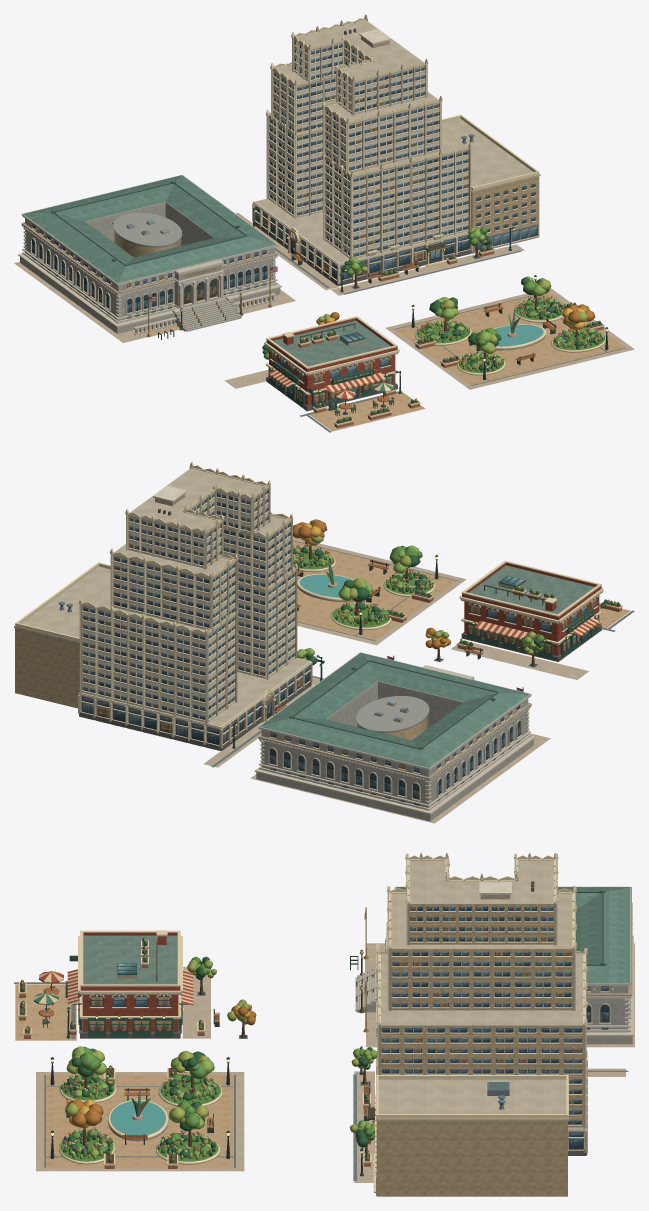
File: olive-and-13th.glb
3 views of the same model, one above another, from view 1: azimuth 30°, elevation 25°; view 2: azimuth 150°, elevation 25°; view 3: azimuth 270°, elevation 25° (orthographic). The views are drawn at different scales.
Parts seen in each view (by area): view 1: Park Pacific · Ivory terra cotta, Park Pacific · Carved limestone, St. Louis Public Library - Central Library · Library roof ti, Park Pacific · Shadowed terra cotta, St. Louis Public Library - Central Library · Library ashlar, St. Louis Public Library - Central Library · Library granite, Park Pacific · Park roof, Park Pacific · Olive glass sky, Thirteenth Street Plaza · Terrazzo, Park Pacific · Glass gasket, Park Pacific · Olive glass dark, Park Pacific · Blond masonry (+22 smaller); view 2: Park Pacific · Ivory terra cotta, Park Pacific · Carved limestone, St. Louis Public Library - Central Library · Library roof ti, Park Pacific · Shadowed terra cotta, St. Louis Public Library - Central Library · Library granite, Park Pacific · Park roof, St. Louis Public Library - Central Library · Library ashlar, Park Pacific · Olive glass sky, Park Pacific · Blond masonry, Thirteenth Street Plaza · Terrazzo, Park Pacific · Glass gasket, Park Pacific · Olive glass blue (+20 smaller); view 3: Park Pacific · Blond masonry, Park Pacific · Park roof, Park Pacific · Carved limestone, Thirteenth Street Plaza · Terrazzo, Park Pacific · Shadowed terra cotta, St. Louis Public Library - Central Library · Library roof ti, Park Pacific · Olive glass sky, Olive & Rye · Roof tiles, Thirteenth Street Plaza · Leaf green, Park Pacific · Glass gasket, Olive & Rye · St. Louis red brick, Thirteenth Street Plaza · Olive sidewalk (+26 smaller).
Boxes of the visible parts, x1=… form: Park Pacific · Ivory terra cotta: x1=252, y1=27, x2=471, y2=283; Park Pacific · Carved limestone: x1=252, y1=14, x2=539, y2=283; St. Louis Public Library - Central Library · Library roof ti: x1=21, y1=175, x2=278, y2=284; Park Pacific · Shadowed terra cotta: x1=254, y1=19, x2=538, y2=283; St. Louis Public Library - Central Library · Library ashlar: x1=18, y1=174, x2=281, y2=335; St. Louis Public Library - Central Library · Library granite: x1=20, y1=201, x2=280, y2=333; Park Pacific · Park roof: x1=256, y1=21, x2=540, y2=262; Park Pacific · Olive glass sky: x1=255, y1=41, x2=537, y2=280; Thirteenth Street Plaza · Terrazzo: x1=395, y1=292, x2=625, y2=385; Park Pacific · Glass gasket: x1=255, y1=41, x2=537, y2=279; Park Pacific · Olive glass dark: x1=270, y1=52, x2=535, y2=279; Park Pacific · Blond masonry: x1=424, y1=65, x2=539, y2=253; Park Pacific · Ivory terra cotta: x1=78, y1=485, x2=311, y2=748; Park Pacific · Carved limestone: x1=15, y1=461, x2=312, y2=748; St. Louis Public Library - Central Library · Library roof ti: x1=258, y1=653, x2=531, y2=768; Park Pacific · Shadowed terra cotta: x1=79, y1=466, x2=312, y2=748; St. Louis Public Library - Central Library · Library granite: x1=256, y1=681, x2=533, y2=821; Park Pacific · Park roof: x1=14, y1=468, x2=309, y2=726; St. Louis Public Library - Central Library · Library ashlar: x1=254, y1=652, x2=535, y2=814; Park Pacific · Olive glass sky: x1=82, y1=490, x2=293, y2=743; Park Pacific · Blond masonry: x1=15, y1=515, x2=129, y2=708; Thirteenth Street Plaza · Terrazzo: x1=293, y1=540, x2=456, y2=640; Park Pacific · Glass gasket: x1=81, y1=490, x2=309, y2=744; Park Pacific · Olive glass blue: x1=82, y1=493, x2=309, y2=733; Park Pacific · Blond masonry: x1=376, y1=903, x2=583, y2=1196; Park Pacific · Park roof: x1=376, y1=860, x2=582, y2=1121; Park Pacific · Carved limestone: x1=373, y1=853, x2=587, y2=1192; Thirteenth Street Plaza · Terrazzo: x1=44, y1=1075, x2=233, y2=1168; Park Pacific · Shadowed terra cotta: x1=374, y1=857, x2=587, y2=1195; St. Louis Public Library - Central Library · Library roof ti: x1=394, y1=887, x2=631, y2=983; Park Pacific · Olive glass sky: x1=383, y1=906, x2=580, y2=1114; Olive & Rye · Roof tiles: x1=83, y1=935, x2=177, y2=984; Thirteenth Street Plaza · Leaf green: x1=60, y1=1046, x2=220, y2=1161; Park Pacific · Glass gasket: x1=382, y1=906, x2=583, y2=1149; Olive & Rye · St. Louis red brick: x1=80, y1=932, x2=180, y2=1032; Thirteenth Street Plaza · Olive sidewalk: x1=36, y1=1072, x2=244, y2=1171.
Size of the model in its own units: 37.29 by 16.48 by 38.6.
Materials: 67 (34 with a texture image).
